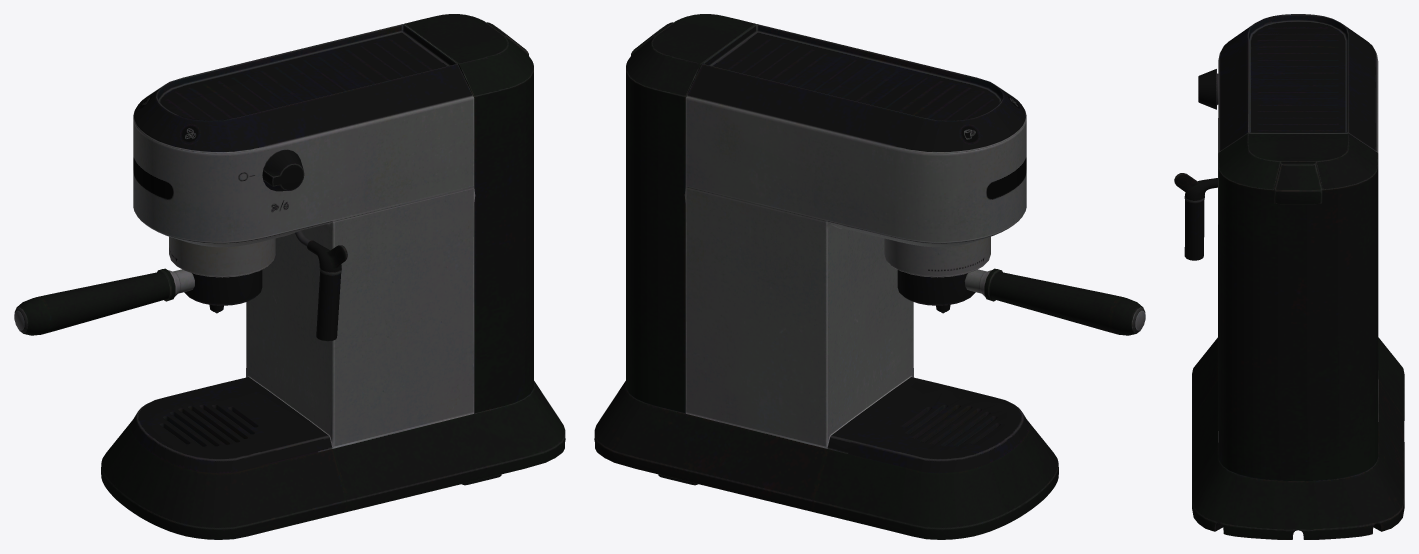
The model's file is Espresso.fbx.
3 views of the same model, side by side, from view 1: azimuth 30°, elevation 25°; view 2: azimuth 150°, elevation 25°; view 3: azimuth 270°, elevation 25° (orthographic). The views are drawn at different scales.
Visible parts, largest first — view 1: node_id34; view 2: node_id34; view 3: node_id34.
Boxes of the visible parts, x1,y1,x2,y2 form: node_id34: (14, 14, 565, 539); node_id34: (594, 14, 1145, 539); node_id34: (1174, 14, 1404, 539).
Size of the model in its own units: 0.512 by 0.3737 by 0.2147.
1 material, 1 textured.
